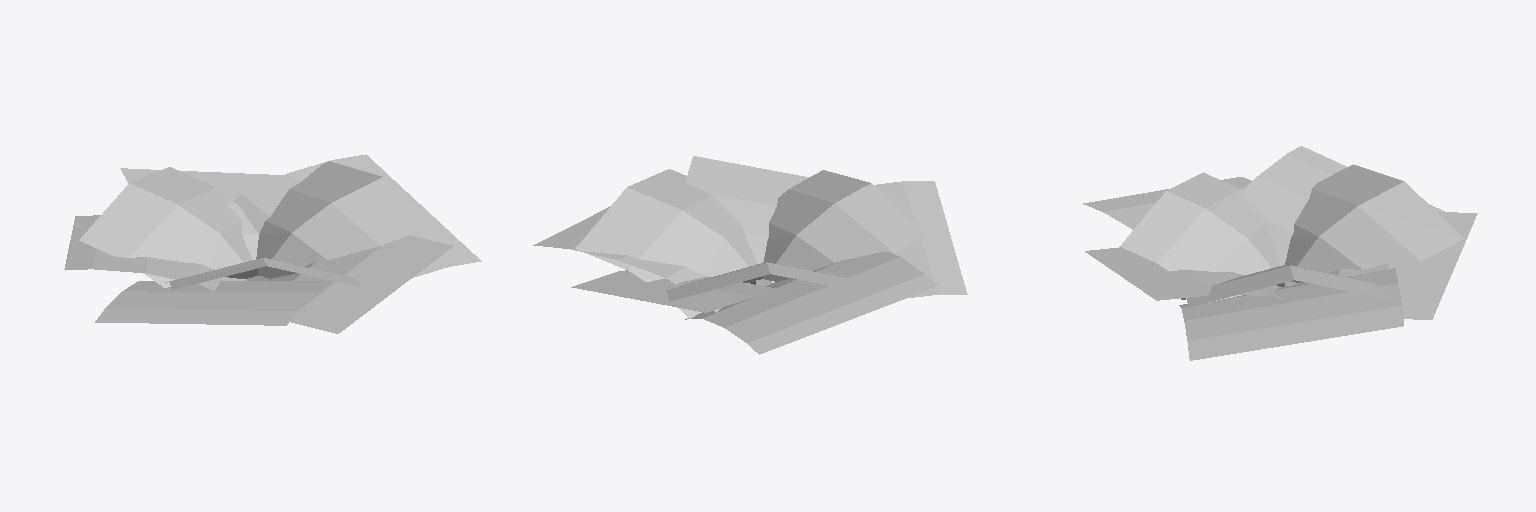
The model's file is Cartoon Flowers_13.obj.
3 views of the same model, side by side, from view 1: azimuth 30°, elevation 25°; view 2: azimuth 150°, elevation 25°; view 3: azimuth 270°, elevation 25° (orthographic).
Visible parts, largest first — view 1: Cartoon Flowers_13; view 2: Cartoon Flowers_13; view 3: Cartoon Flowers_13.
Boxes of the visible parts, x1=… form: Cartoon Flowers_13: x1=64, y1=154, x2=481, y2=333; Cartoon Flowers_13: x1=533, y1=156, x2=967, y2=354; Cartoon Flowers_13: x1=1083, y1=146, x2=1477, y2=360.
Size of the model in its own units: 8.06 by 1.84 by 7.62.